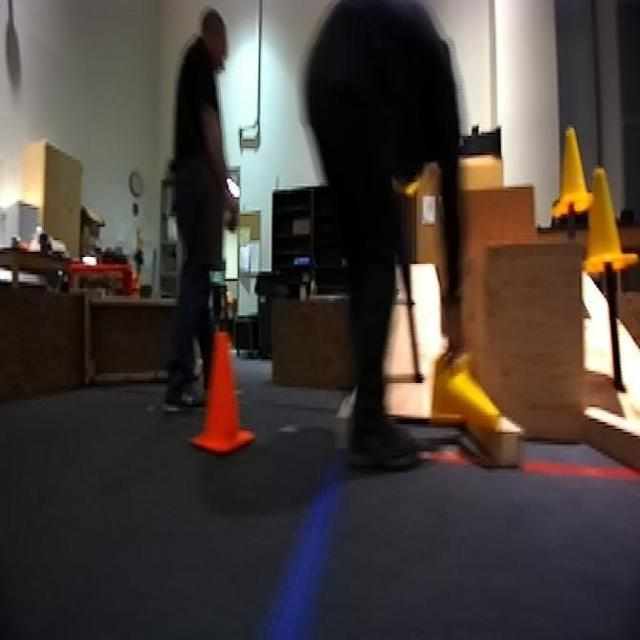frc_cone: (431, 352, 504, 439), (582, 155, 628, 282), (555, 133, 596, 213)
